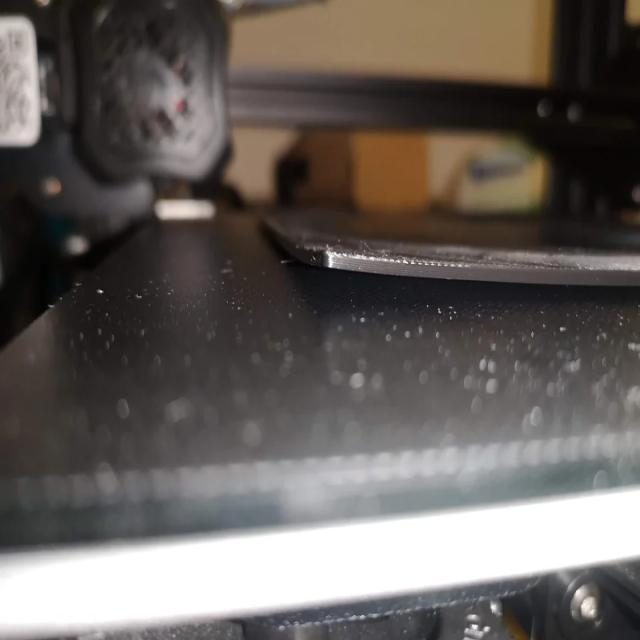warping: (313, 239, 487, 312)
